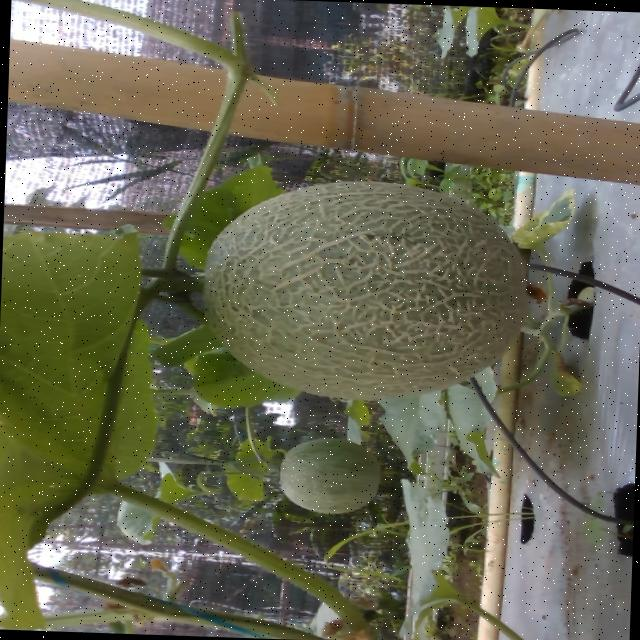melon: (204, 179, 526, 398)
